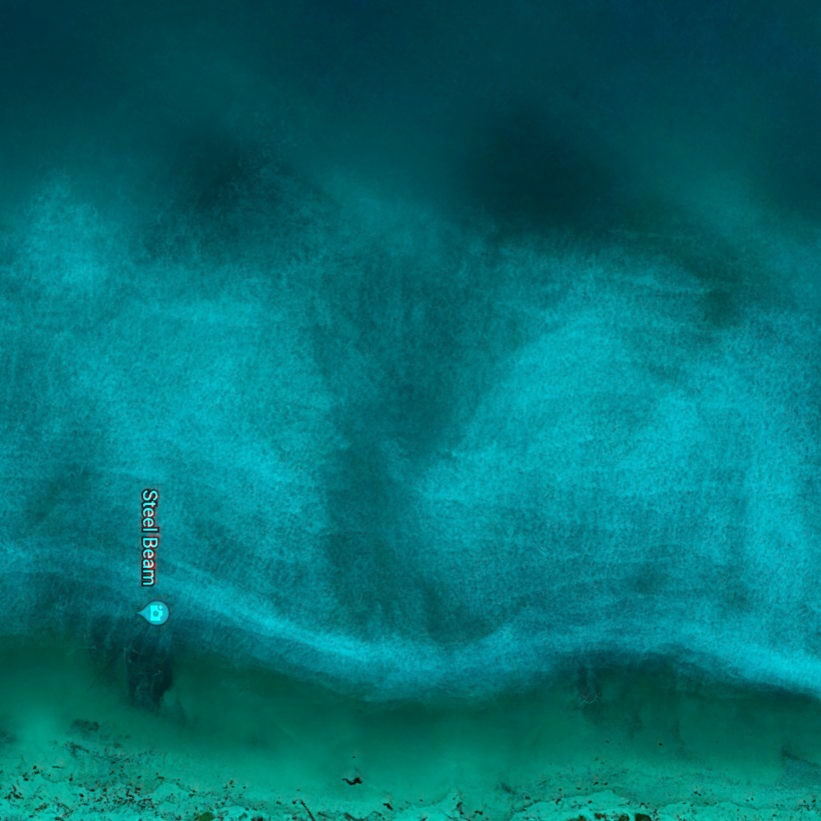rip_current: (257, 225, 505, 661)
